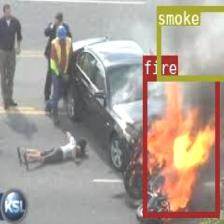fire: (142, 75, 219, 217)
smoke: (156, 5, 224, 80)
